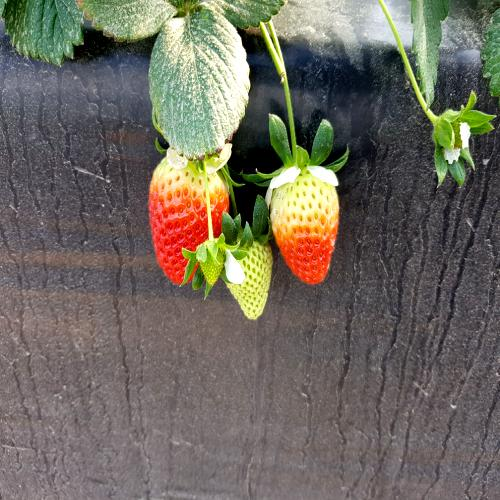partially-ripe: (147, 149, 231, 299), (262, 164, 346, 292)
